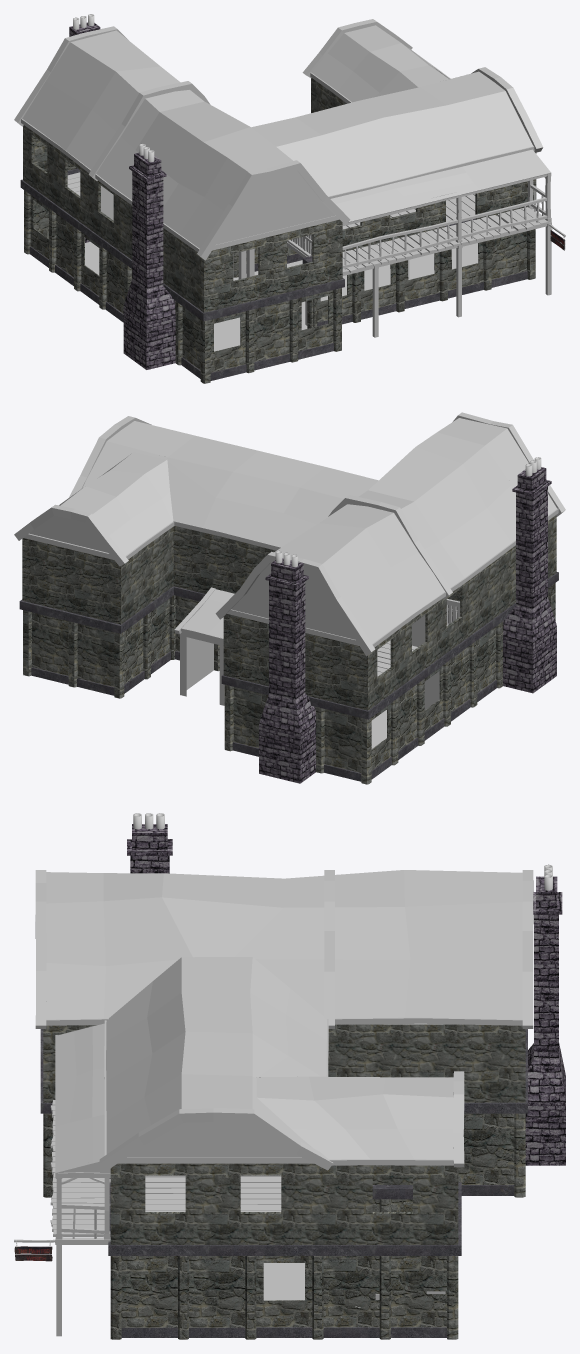
File: MedievalTavern.fbx
3 renders of one model, top to bottom at view 1: azimuth 30°, elevation 25°; view 2: azimuth 150°, elevation 25°; view 3: azimuth 270°, elevation 25°, orthographic. The views are drawn at different scales.
Parts seen in each view (by area): view 1: Roof, WallsLevel1, WallsLevel2, RoofWood, Balcony, Chimney, RoofFrame, Level3, Foundation, Floor, Level2Frame, UpperFloorMain (+3 smaller); view 2: Roof, WallsLevel2, WallsLevel1, RoofWood, ChimneyHearth, Chimney, RoofFrame, Level2Frame, Level3, Foundation, Pantry, PantryRoof (+5 smaller); view 3: Roof, WallsLevel2, WallsLevel1, RoofWood, RoofFrame, ChimneyHearth, Level2Frame, Balcony, Level3, Foundation, UpperFloorMain, Chimney (+3 smaller).
Part boxes in pixels (left/top/right/bottom): Roof: left=22, top=33, right=550, bottom=248; WallsLevel1: left=24, top=190, right=535, bottom=383; WallsLevel2: left=23, top=78, right=536, bottom=312; RoofWood: left=70, top=25, right=545, bottom=223; Balcony: left=342, top=173, right=551, bottom=337; Chimney: left=123, top=143, right=175, bottom=369; RoofFrame: left=14, top=19, right=542, bottom=260; Level3: left=216, top=171, right=335, bottom=244; Foundation: left=29, top=246, right=527, bottom=380; Floor: left=85, top=241, right=478, bottom=351; Level2Frame: left=20, top=168, right=536, bottom=321; UpperFloorMain: left=287, top=194, right=475, bottom=279; Roof: left=59, top=428, right=556, bottom=643; WallsLevel2: left=22, top=515, right=556, bottom=710; WallsLevel1: left=23, top=583, right=555, bottom=784; RoofWood: left=61, top=418, right=506, bottom=581; ChimneyHearth: left=259, top=550, right=315, bottom=783; Chimney: left=503, top=457, right=556, bottom=693; RoofFrame: left=14, top=412, right=565, bottom=656; Level2Frame: left=19, top=572, right=558, bottom=719; Level3: left=29, top=515, right=354, bottom=639; Foundation: left=31, top=615, right=496, bottom=781; Pantry: left=180, top=631, right=224, bottom=705; PantryRoof: left=182, top=589, right=234, bottom=638; Roof: left=46, top=897, right=522, bottom=1173; WallsLevel2: left=43, top=1024, right=525, bottom=1244; WallsLevel1: left=43, top=1113, right=525, bottom=1339; RoofWood: left=46, top=870, right=522, bottom=1108; RoofFrame: left=35, top=870, right=533, bottom=1171; ChimneyHearth: left=525, top=864, right=565, bottom=1165; Level2Frame: left=40, top=1029, right=527, bottom=1255; Balcony: left=50, top=1025, right=110, bottom=1336; Level3: left=127, top=1122, right=300, bottom=1156; Foundation: left=121, top=1185, right=514, bottom=1337; UpperFloorMain: left=145, top=1175, right=281, bottom=1211; Chimney: left=127, top=813, right=172, bottom=873.
Size of the model in its own units: 1612 by 833 by 1477.
